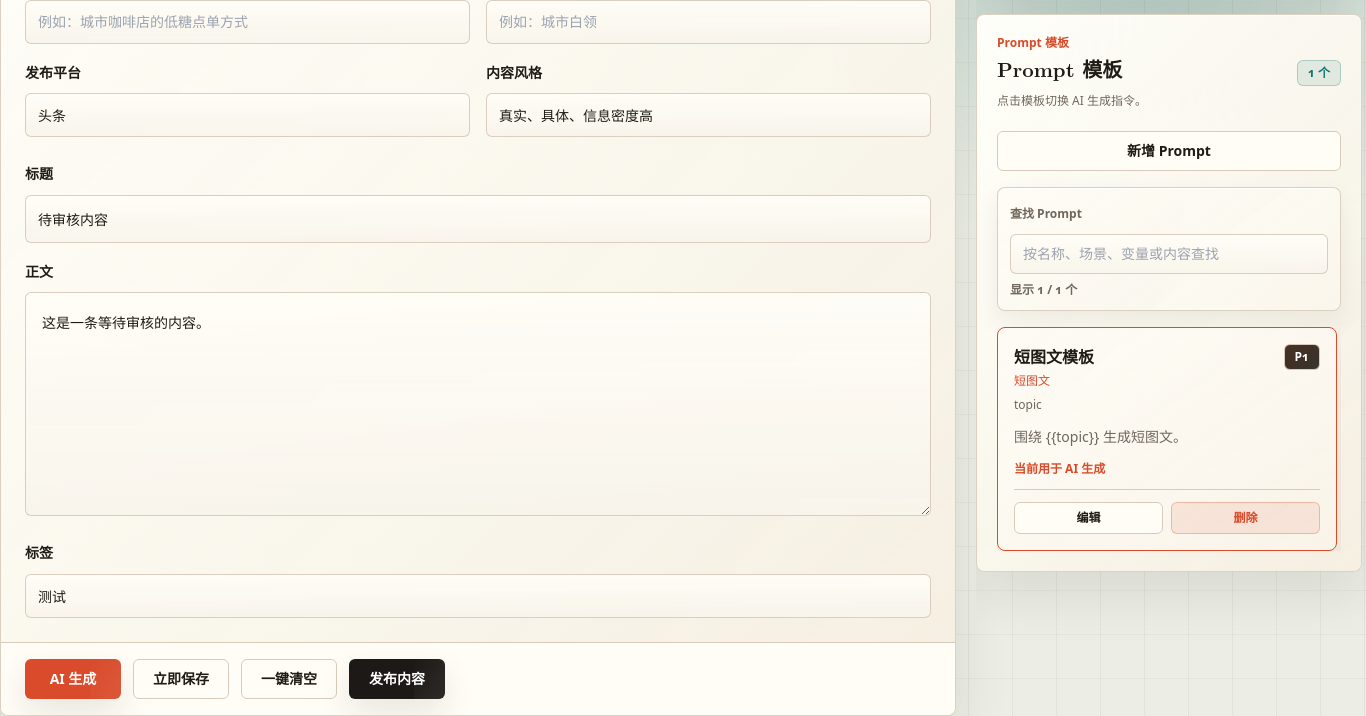
Test: creation studio › locks action buttons and shows a spinner while automatic review is pending
(page scrolled)
What coordinates should you click on to do the following:
click the button "发布内容"
I would click on:
 (397, 679)
Its box is [349,659,445,699].
(page scrolled)
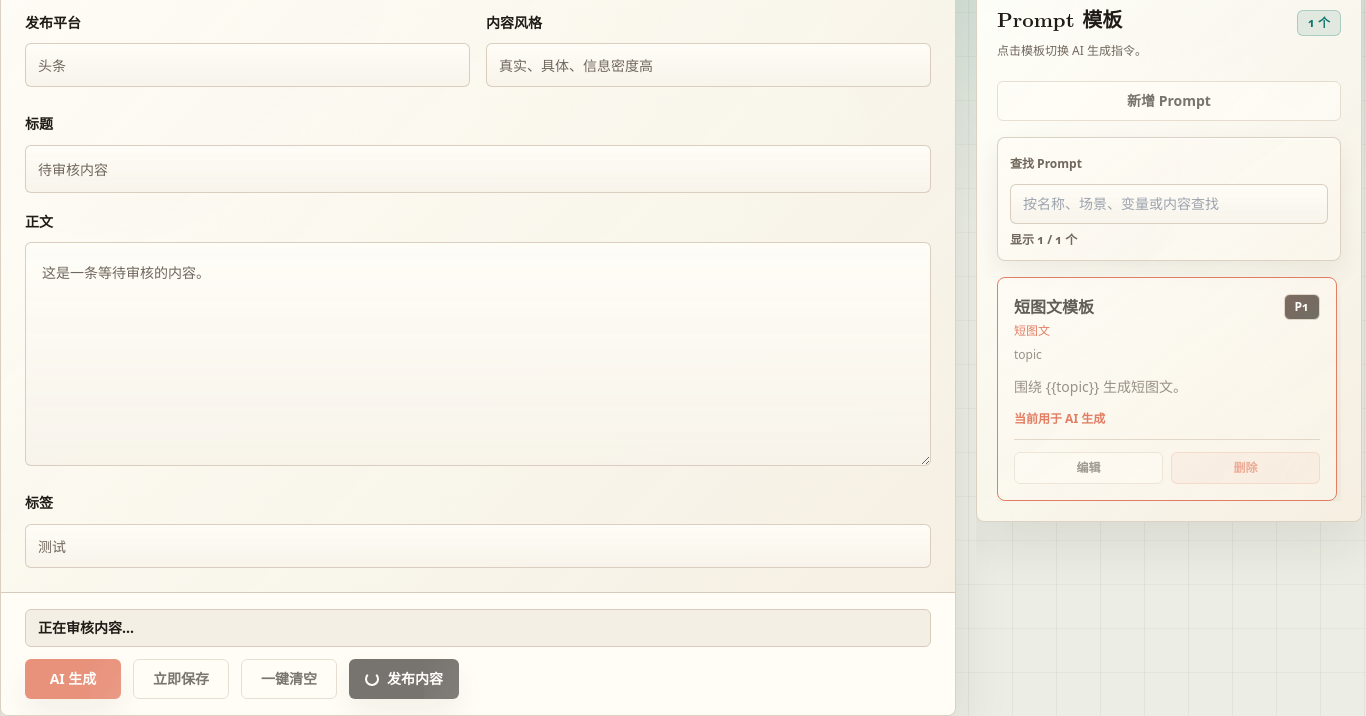
Check: the button "AI 生成" is disabled, box [25,659,121,699]
Check: the button "立即保存" is disabled, box [133,659,229,699]
Check: the button "发布内容" is disabled, box [349,659,459,699]
